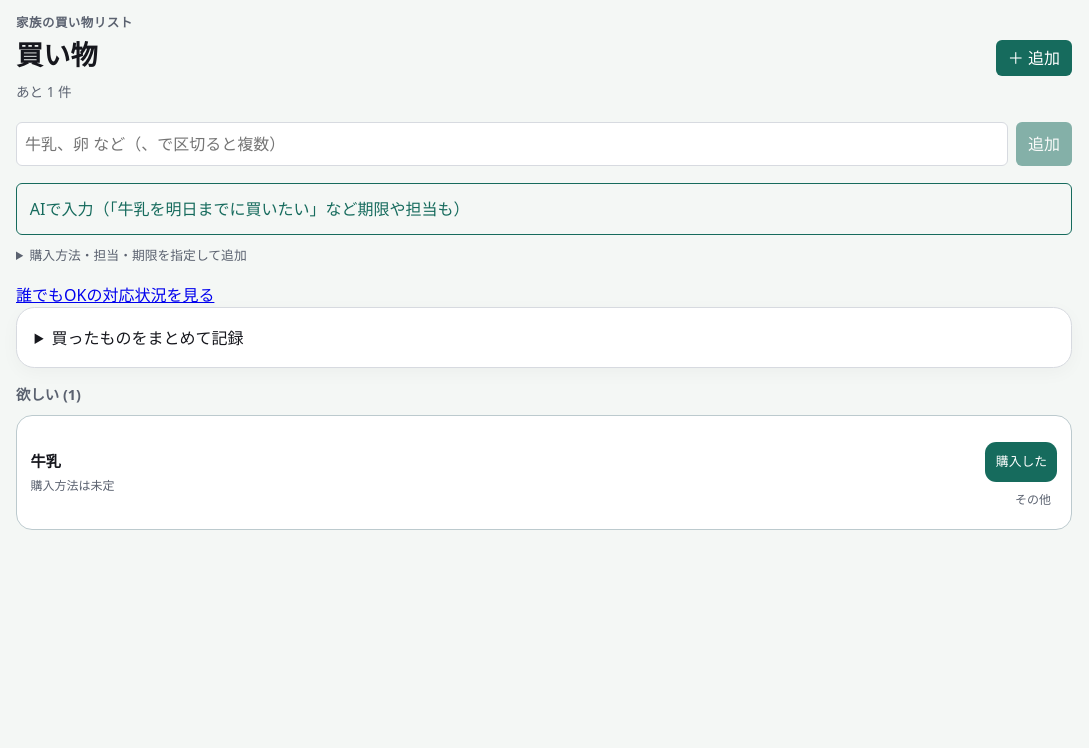
it: Shopping quick add › does not undo over a later change by the partner
Click the button "購入した": [1021, 462] box top-left (985, 442), bottom-right (1057, 482)
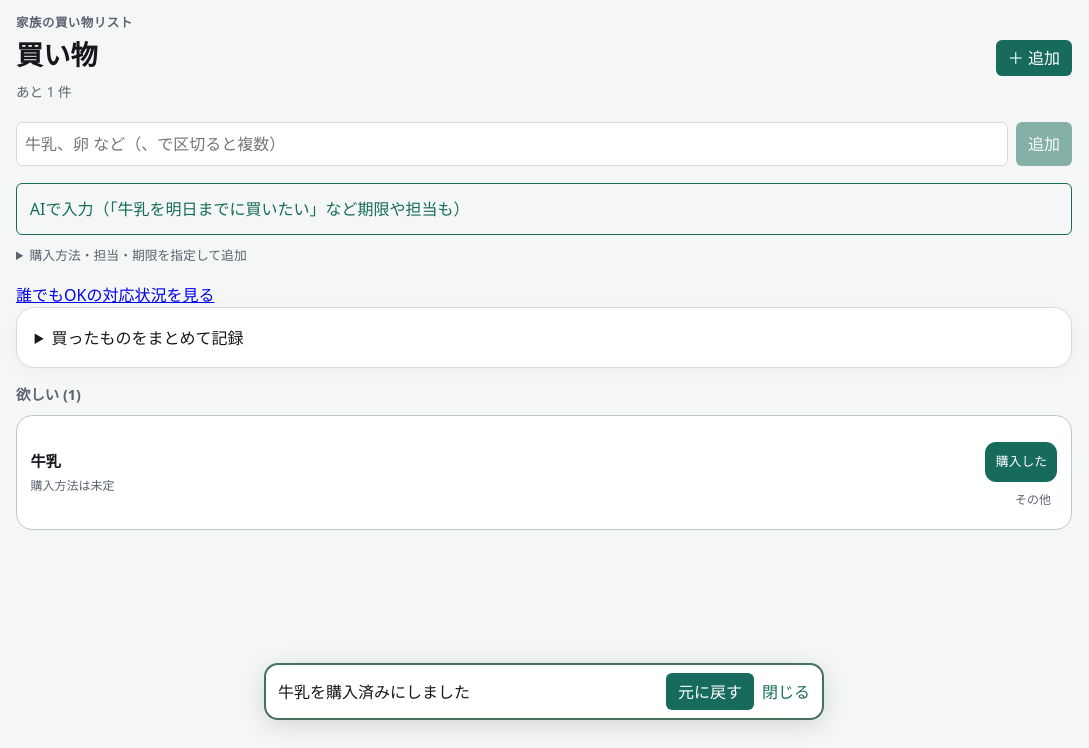
Result: the text "牛乳を購入済みにしました" is shown at top-left (278, 681), bottom-right (470, 703)
Click the button "元に戻す": [710, 692] box top-left (666, 673), bottom-right (754, 710)
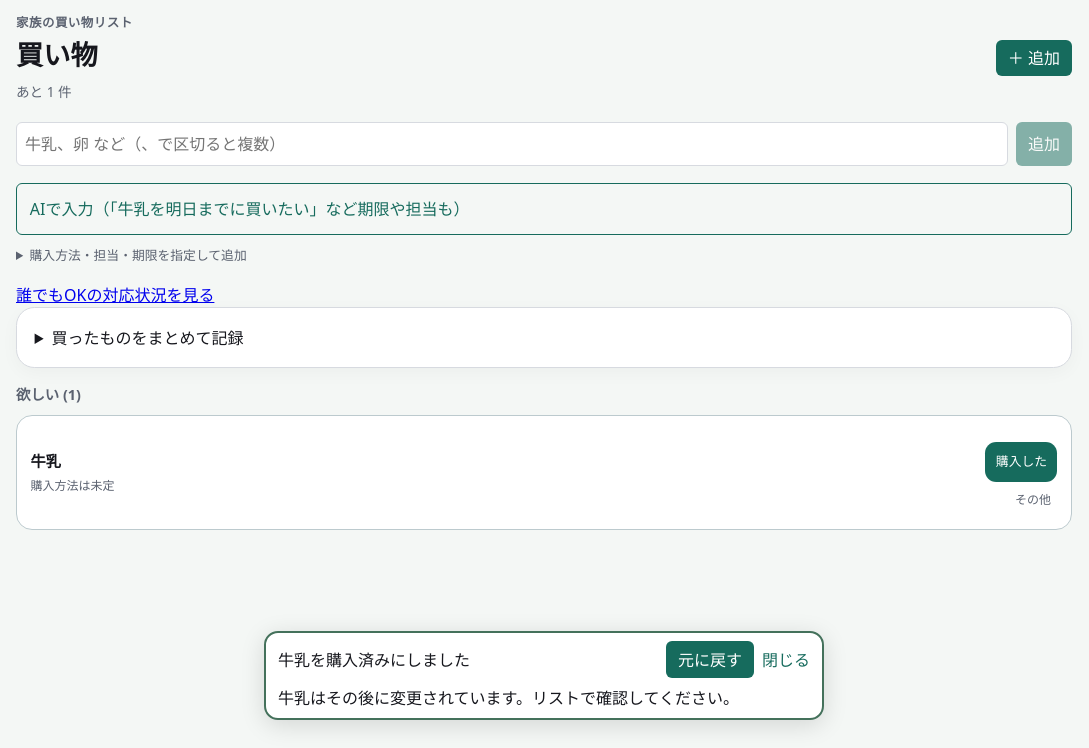
Result: the text "その後に変更されています" is shown at top-left (278, 687), bottom-right (739, 709)
